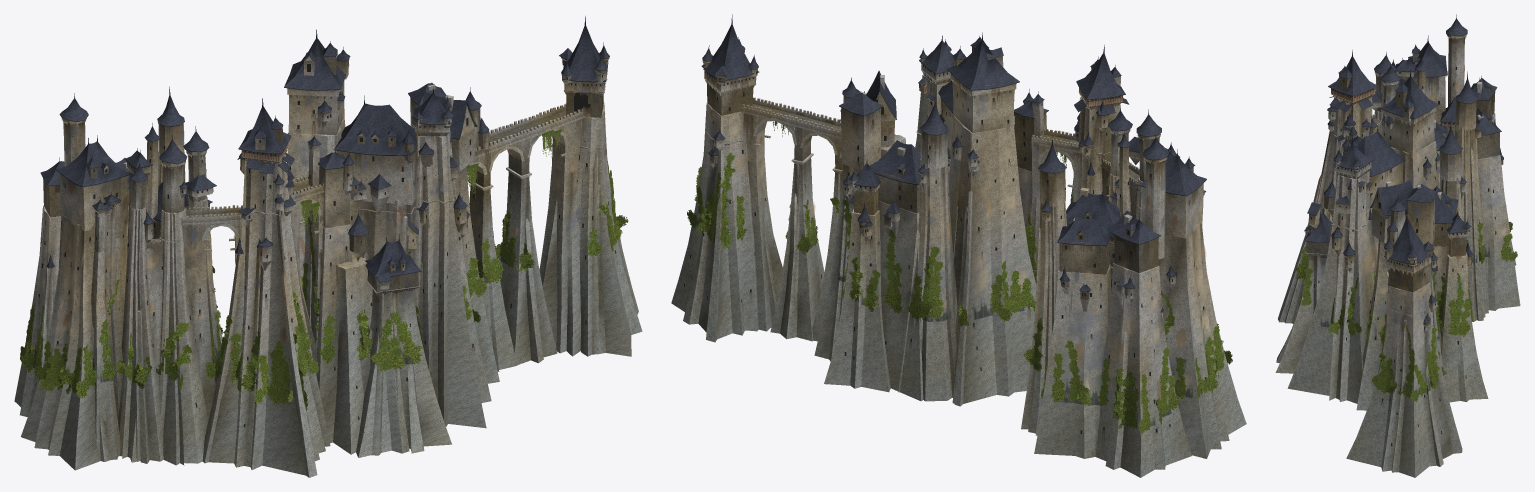
The model's file is castillo_v4_lowpoly_draco.glb.
The picture shows the model from 3 angles, left to right: view 1: azimuth 30°, elevation 25°; view 2: azimuth 150°, elevation 25°; view 3: azimuth 270°, elevation 25°; orthographic projection. The views are drawn at different scales.
Visible parts, largest first — view 1: Ala_Oeste_Cimientos, Nucleo_Central_Cimientos, Torre_Homenaje_Oeste_Cimientos, Desgaste_Hiedra, Nucleo_Central_Superestructura, Torre_Frontal_Cimientos, Desgaste_Manchas, Torre_Puerta_Cimientos, Puente_Este_Cimientos, Ala_Oeste_Superestructura, Puente_Este_Superestructura, Ampliacion_Cimientos (+11 smaller); view 2: Ampliacion_Cimientos, Nucleo_Central_Cimientos, Desgaste_Manchas, Desgaste_Hiedra, Ampliacion_Superestructura, Torre_Puerta_Cimientos, Ala_Oeste_Cimientos, Puente_Este_Cimientos, Ala_Oeste_Superestructura, Nucleo_Central_Superestructura, Ala_Este_Superestructura, Puente_Este_Superestructura (+7 smaller); view 3: Ampliacion_Cimientos, Torre_Puerta_Cimientos, Torre_Frontal_Cimientos, Desgaste_Manchas, Nucleo_Central_Superestructura, Ampliacion_Superestructura, Desgaste_Hiedra, Ala_Oeste_Superestructura, Ala_Este_Superestructura, Nucleo_Central_Cimientos, Torre_Homenaje_Oeste_Cimientos, Ala_Este_Cimientos (+3 smaller).
Boxes of the visible parts, x1,y1,x2,y2 form: Ala_Oeste_Cimientos: [21, 197, 219, 470]; Nucleo_Central_Cimientos: [287, 117, 451, 457]; Torre_Homenaje_Oeste_Cimientos: [202, 154, 330, 477]; Desgaste_Hiedra: [20, 129, 628, 410]; Nucleo_Central_Superestructura: [284, 29, 421, 294]; Torre_Frontal_Cimientos: [413, 128, 491, 428]; Desgaste_Manchas: [33, 63, 613, 396]; Torre_Puerta_Cimientos: [542, 102, 642, 356]; Puente_Este_Cimientos: [469, 165, 578, 371]; Ala_Oeste_Superestructura: [56, 93, 216, 252]; Puente_Este_Superestructura: [468, 103, 585, 190]; Ampliacion_Cimientos: [14, 152, 222, 416]; Ampliacion_Cimientos: [824, 159, 1192, 477]; Nucleo_Central_Cimientos: [947, 116, 1036, 406]; Desgaste_Manchas: [696, 68, 1223, 443]; Desgaste_Hiedra: [687, 121, 1232, 433]; Ampliacion_Superestructura: [849, 95, 1161, 311]; Torre_Puerta_Cimientos: [671, 103, 782, 342]; Ala_Oeste_Cimientos: [1109, 173, 1246, 458]; Puente_Este_Cimientos: [747, 155, 842, 341]; Ala_Oeste_Superestructura: [1107, 107, 1206, 290]; Nucleo_Central_Superestructura: [938, 32, 1048, 178]; Ala_Este_Superestructura: [839, 70, 896, 211]; Puente_Este_Superestructura: [740, 97, 842, 173]; Ampliacion_Cimientos: [1433, 112, 1520, 402]; Torre_Puerta_Cimientos: [1346, 283, 1462, 477]; Torre_Frontal_Cimientos: [1287, 171, 1377, 403]; Desgaste_Manchas: [1299, 36, 1506, 406]; Nucleo_Central_Superestructura: [1304, 69, 1439, 257]; Ampliacion_Superestructura: [1433, 71, 1503, 267]; Desgaste_Hiedra: [1295, 205, 1517, 401]; Ala_Oeste_Superestructura: [1372, 14, 1467, 125]; Ala_Este_Superestructura: [1370, 180, 1437, 279]; Nucleo_Central_Cimientos: [1275, 141, 1439, 373]; Torre_Homenaje_Oeste_Cimientos: [1278, 97, 1372, 323]; Ala_Este_Cimientos: [1356, 239, 1446, 410].
Bounding box in the file's own units: 173 × 102 × 79.17.
5 materials, 5 textured.
